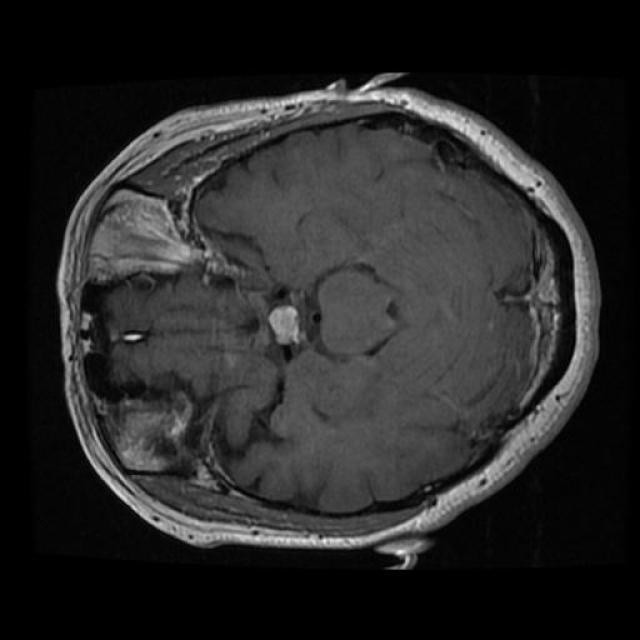Pituitary: (268, 305, 300, 345)
